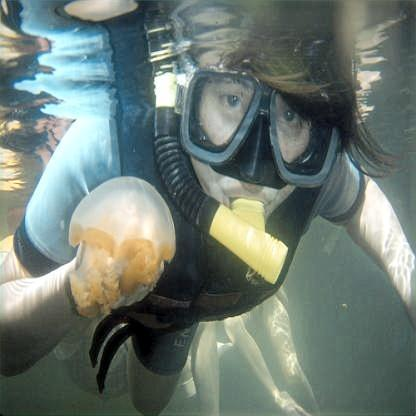Handstand: (70, 178, 172, 312)
